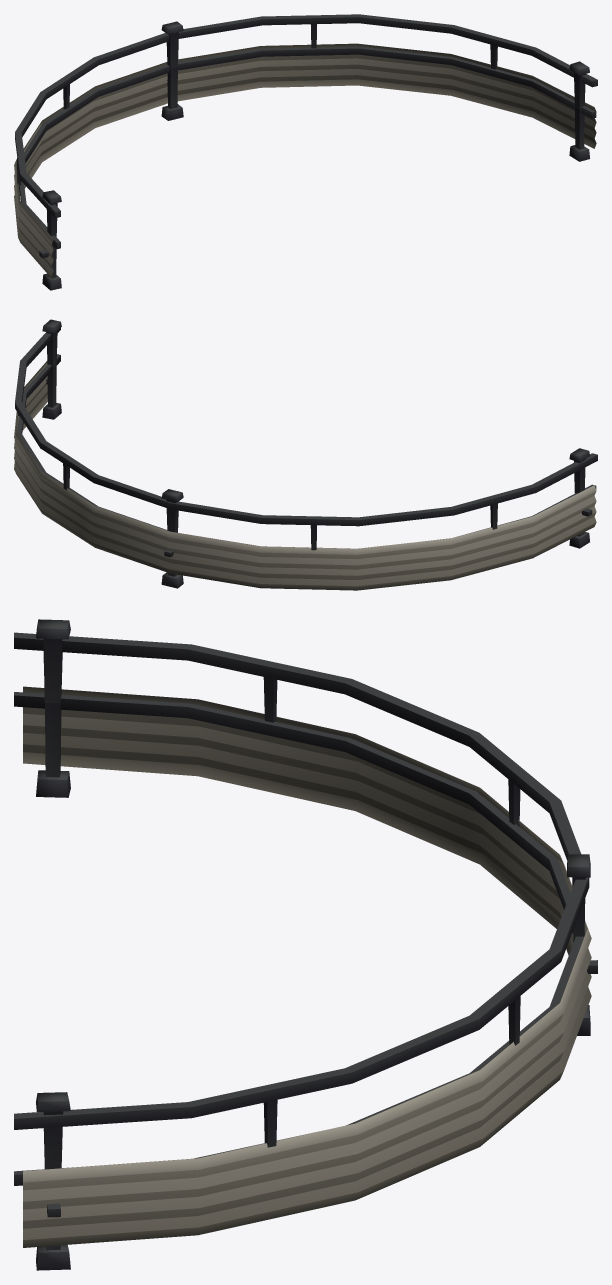
Rendered from Fence_3B.fbx.
3 views of the same model, one above another, from view 1: azimuth 30°, elevation 25°; view 2: azimuth 150°, elevation 25°; view 3: azimuth 270°, elevation 25° (orthographic). The views are drawn at different scales.
Visible parts, largest first — view 1: Fence_3B; view 2: Fence_3B; view 3: Fence_3B.
Part boxes in pixels (x1=…): Fence_3B: x1=14, y1=14, x2=597, y2=290; Fence_3B: x1=14, y1=319, x2=597, y2=590; Fence_3B: x1=14, y1=619, x2=597, y2=1270.
Bounding box in the file's own units: 2750 × 437 × 1377.
